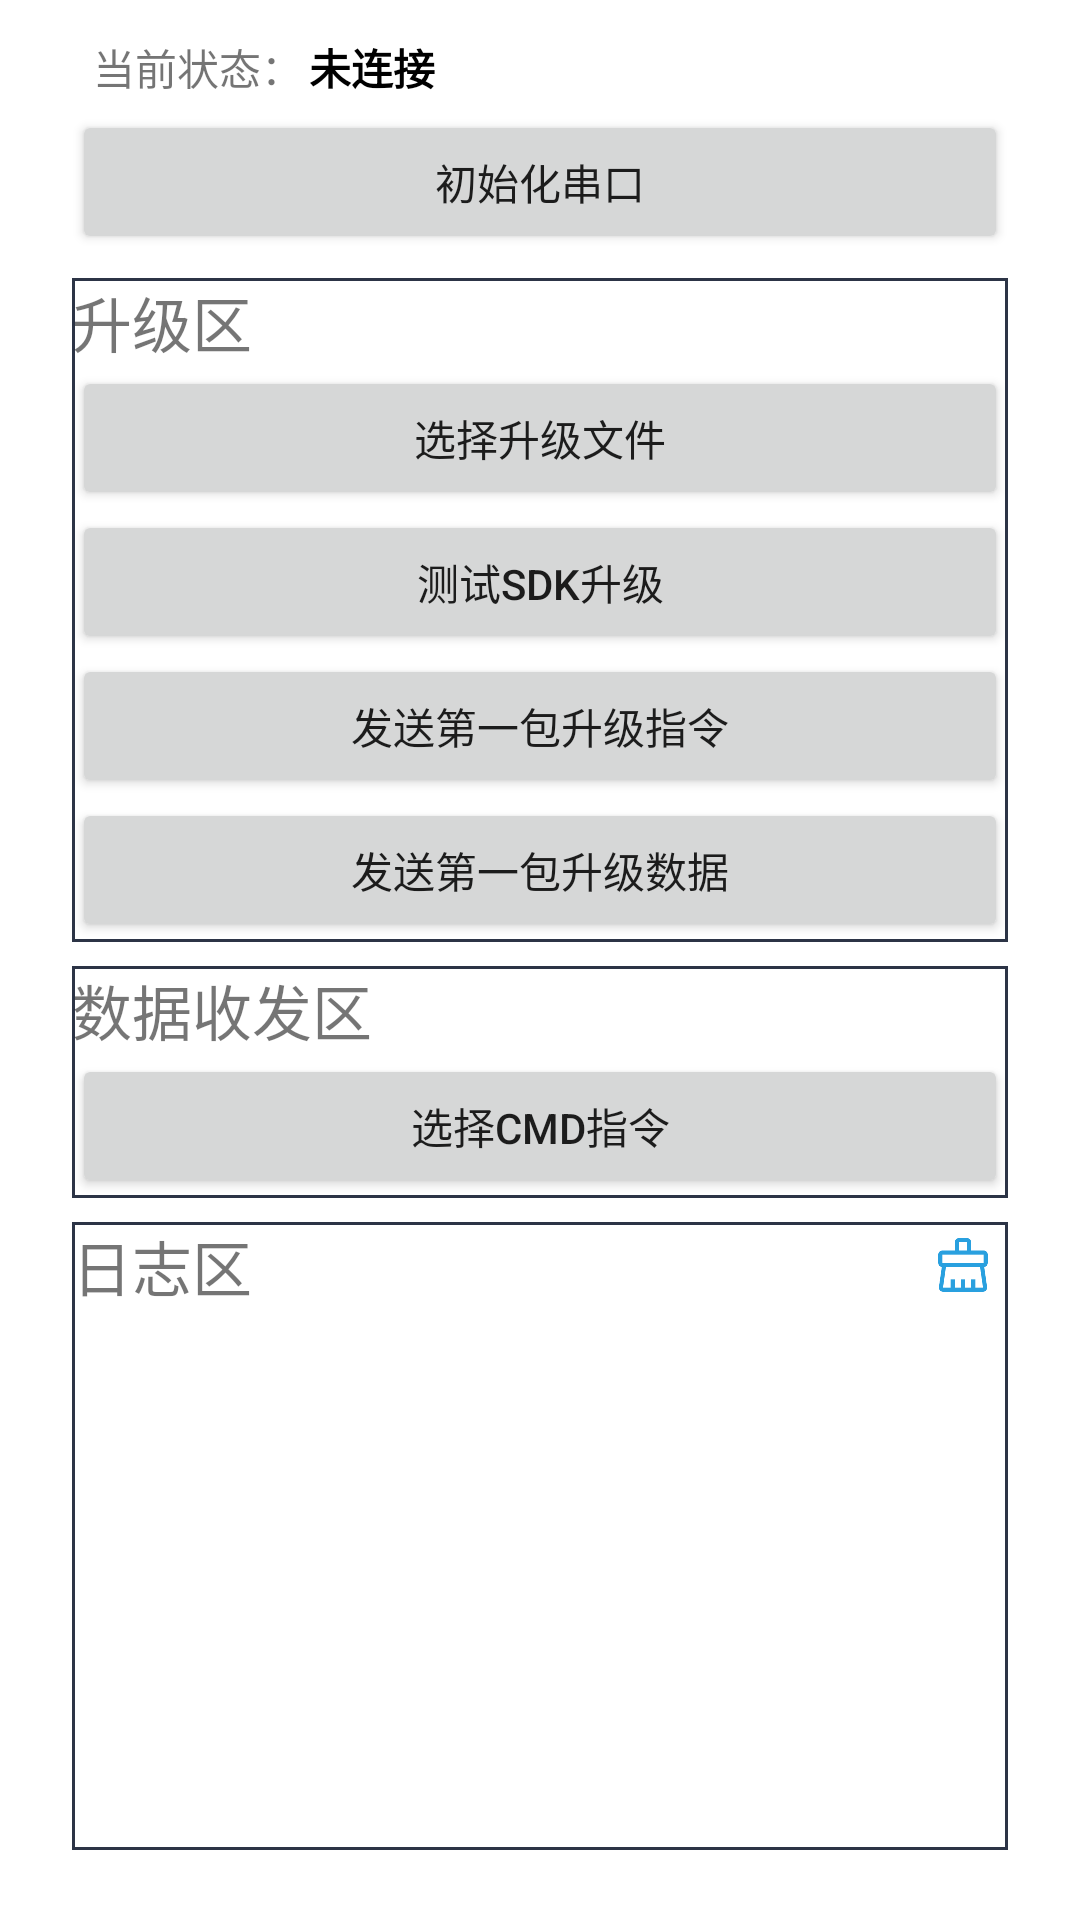

Screen size 1080x1920. Icon name, then its center in pixels as (x=x, y=y):
clear: (x=963, y=1265)
